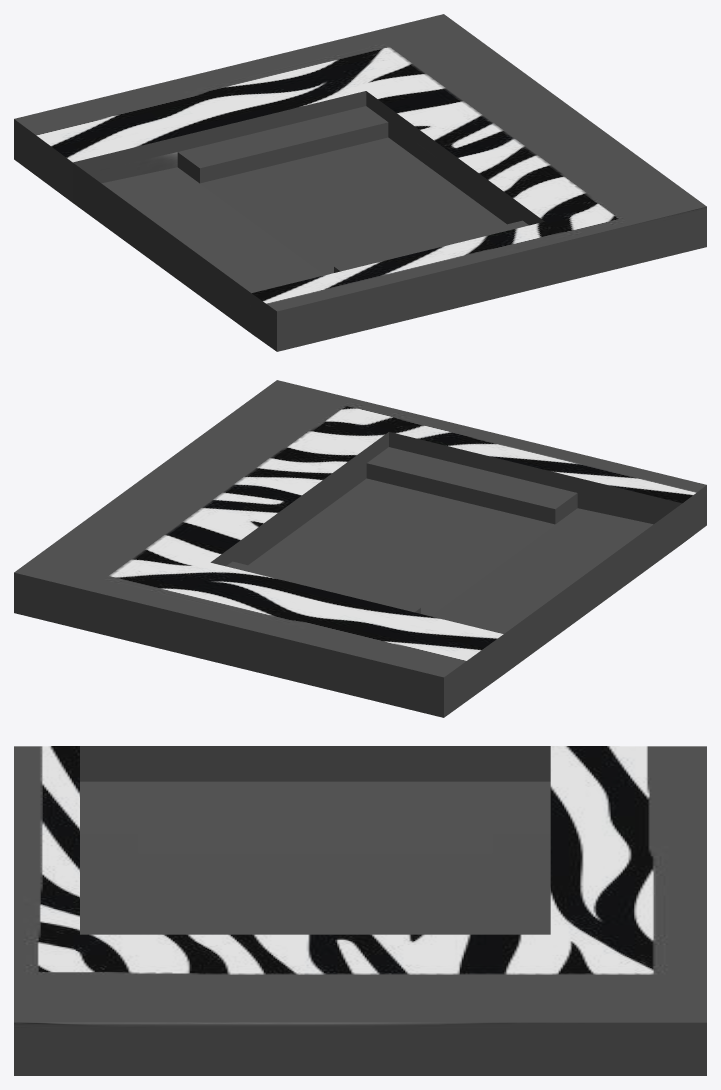
Rendered from delosReyes_floor.glb.
3 renders of one model, top to bottom at view 1: azimuth 30°, elevation 25°; view 2: azimuth 150°, elevation 25°; view 3: azimuth 270°, elevation 25°, orthographic. The views are drawn at different scales.
Parts seen in each view (by area): view 1: floor; view 2: floor; view 3: floor.
Part boxes in pixels (bbox=[...]): floor: bbox=[14, 14, 706, 351]; floor: bbox=[14, 380, 706, 717]; floor: bbox=[14, 746, 706, 1075].
Size of the model in its own units: 50.07 by 4.5 by 53.
Materials: 1 (1 with a texture image).
